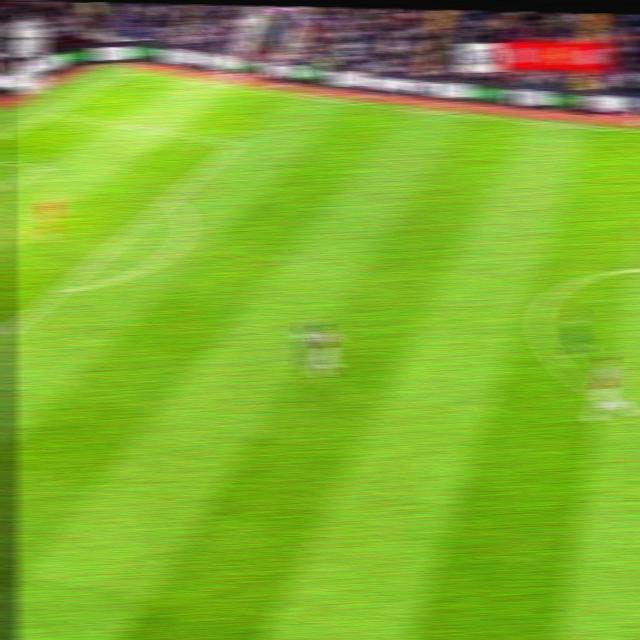bigarea_top_inner: (228, 137, 245, 150)
bigarea_top_outter: (46, 108, 62, 118)
bottom_arc_area_intersection: (51, 282, 70, 298)
corner: (123, 68, 142, 75)
smallarea_top_inner: (29, 162, 46, 172)
top_arc_area_intersection: (162, 192, 180, 204)
